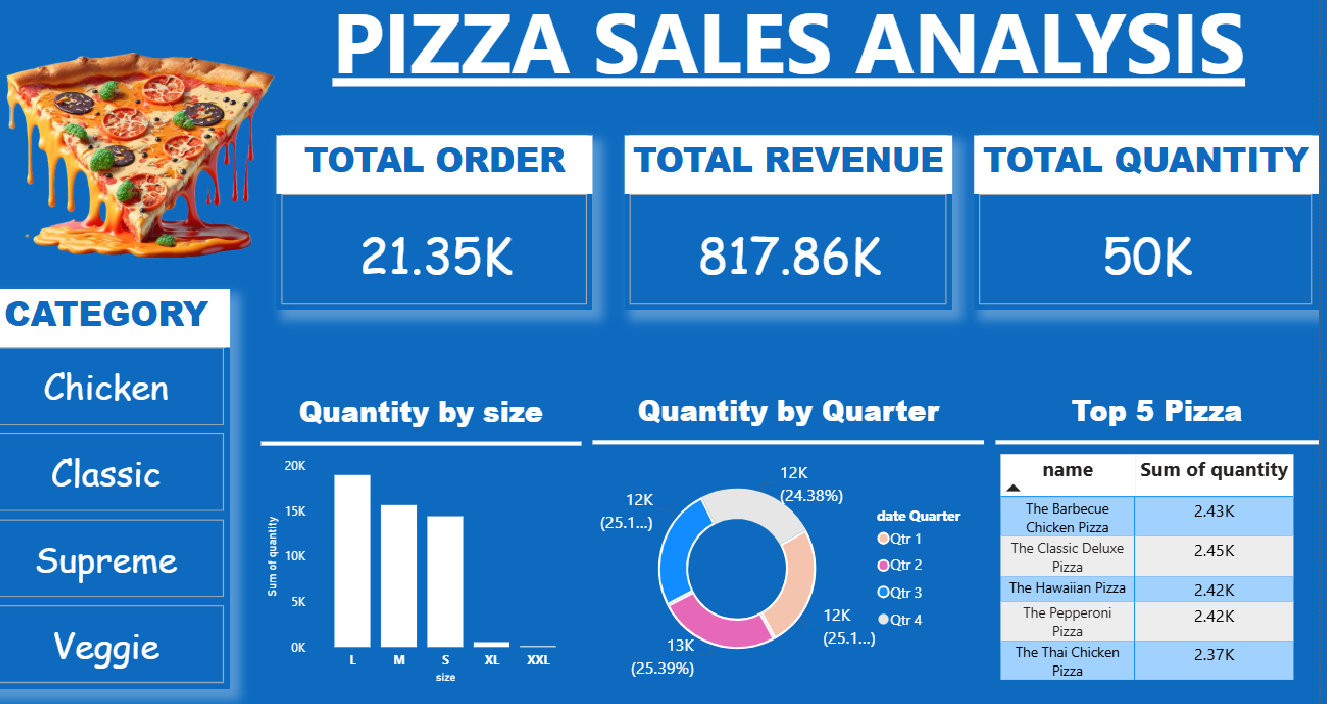

The dashboard page shown, as its layout file describes it:
{"tool":"powerbi","page":{"name":"Page 1","canvas":[1280,720],"ordinal":0},"visuals":[{"type":"textbox","box":[0,0,1280.3,118.6],"z":0},{"type":"cardVisual","title":"TOTAL ORDER","fields":{"Data":["Count(order_details.order_id)"]},"box":[281.3,149.2,303.3,163.9],"z":1000},{"type":"cardVisual","title":"TOTAL REVENUE","fields":{"Data":["order_details.total_revenue"]},"box":[615.1,149.2,314.3,163.9],"z":2000},{"type":"cardVisual","title":"TOTAL QUANTITY","fields":{"Data":["Sum(order_details.quantity)"]},"box":[950.1,149.2,330.2,163.9],"z":3000},{"type":"advancedSlicerVisual","title":"CATEGORY","fields":{"Values":["pizza_types.category"]},"box":[0,293.3,236.7,376.7],"z":4000},{"type":"columnChart","title":"Quantity by size","fields":{"Category":["pizzas.size"],"Y":["Sum(order_details.quantity)"]},"box":[266.6,388.9,306.9,281.3],"z":5000},{"type":"donutChart","title":"Quantity  by Quarter","fields":{"Category":["orders.date.Variation.Date Hierarchy.Quarter"],"Y":["Sum(order_details.quantity)"]},"box":[584.5,387.6,375.4,281.3],"z":6000},{"type":"pivotTable","title":"Top 5 Pizza","fields":{"Rows":["pizza_types.name"],"Values":["Sum(order_details.quantity)"]},"box":[970.9,387.6,309.4,292.3],"z":7000},{"type":"image","box":[12.5,0,281.2,312.5],"z":7001}]}

Visuals, with their boxes on the page's 1280x720 design canvas (x1, y1, x2, y2). These are canvas units, not pixel positions in the 1327x704 screenshot, which may show the page scaled, cropped or inside an application window:
textbox: rect(0, 0, 1280, 119)
"TOTAL ORDER" cardVisual: rect(281, 149, 585, 313)
"TOTAL REVENUE" cardVisual: rect(615, 149, 929, 313)
"TOTAL QUANTITY" cardVisual: rect(950, 149, 1280, 313)
"CATEGORY" advancedSlicerVisual: rect(0, 293, 237, 670)
"Quantity by size" columnChart: rect(267, 389, 574, 670)
"Quantity  by Quarter" donutChart: rect(584, 388, 960, 669)
"Top 5 Pizza" pivotTable: rect(971, 388, 1280, 680)
image: rect(12, 0, 294, 312)
